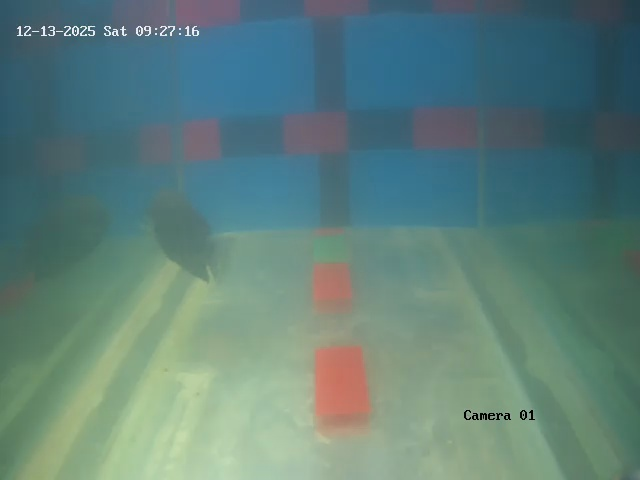fish: (133, 191, 242, 279)
